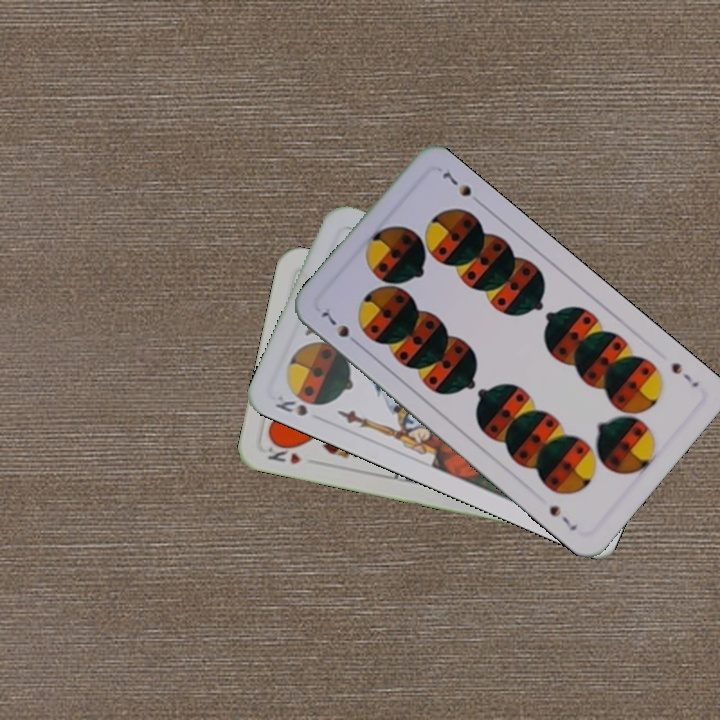HK: (263, 438, 304, 467)
S7: (318, 307, 363, 349), (667, 358, 702, 390)
SK: (271, 391, 310, 419)
